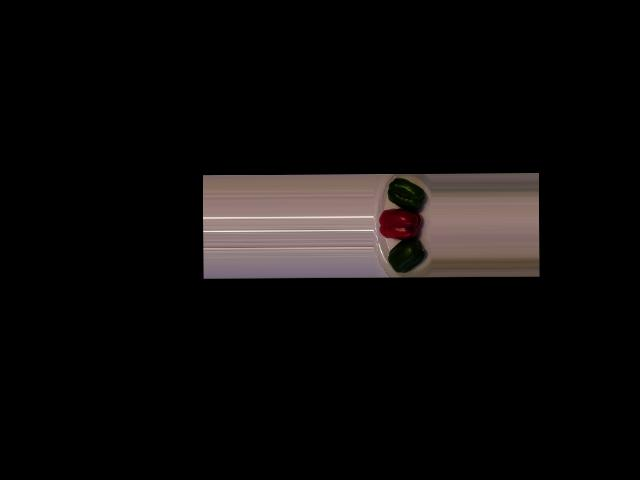bell_pepper: (383, 237, 428, 274)
